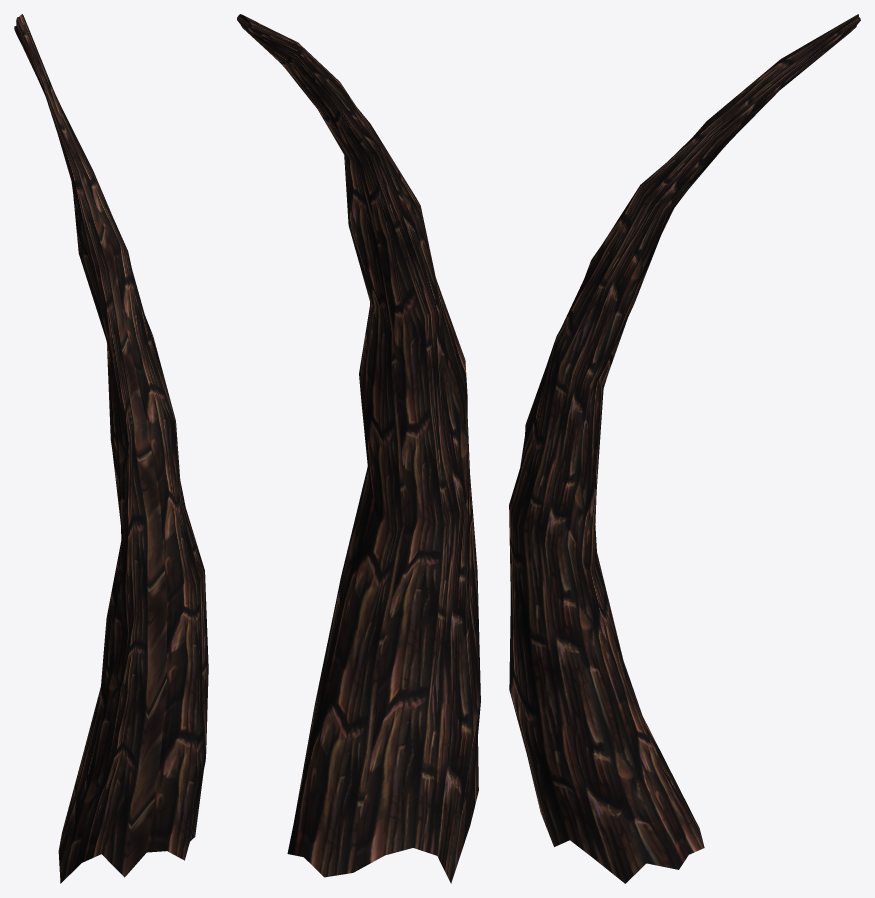
The model's file is tree_03.FBX.
3 renders of one model, left to right at view 1: azimuth 30°, elevation 25°; view 2: azimuth 150°, elevation 25°; view 3: azimuth 270°, elevation 25°, orthographic. The views are drawn at different scales.
Visible parts, largest first — view 1: t_03; view 2: t_03; view 3: t_03.
Part boxes in pixels (bbox=[...]): t_03: bbox=[14, 14, 208, 883]; t_03: bbox=[237, 14, 480, 883]; t_03: bbox=[509, 14, 860, 883].
Bounding box in the file's own units: 12.56 × 75.42 × 28.34.
